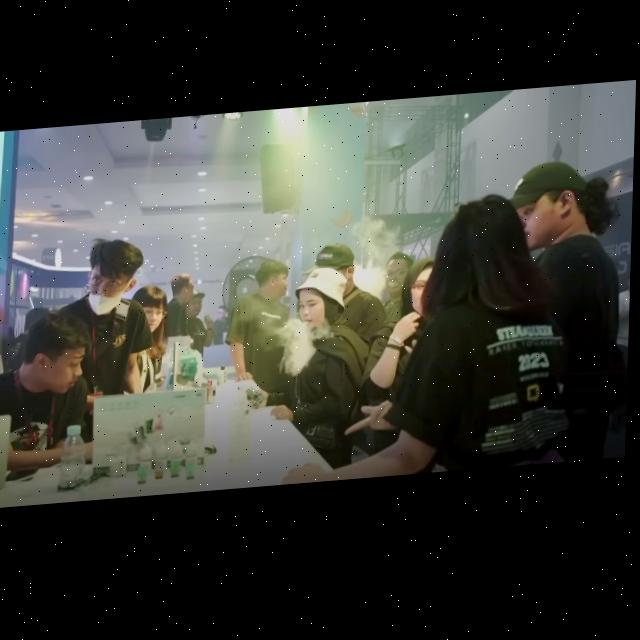vape: (239, 388, 265, 414), (209, 382, 218, 407), (221, 368, 229, 388)
